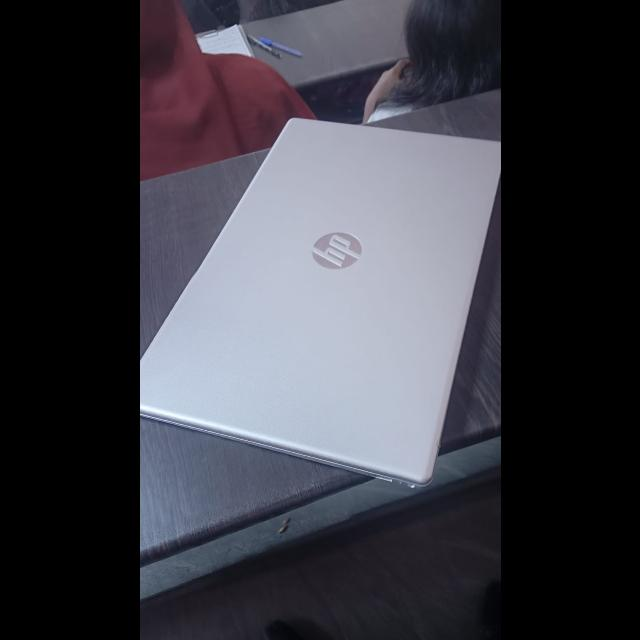laptop: (140, 99, 500, 545)
